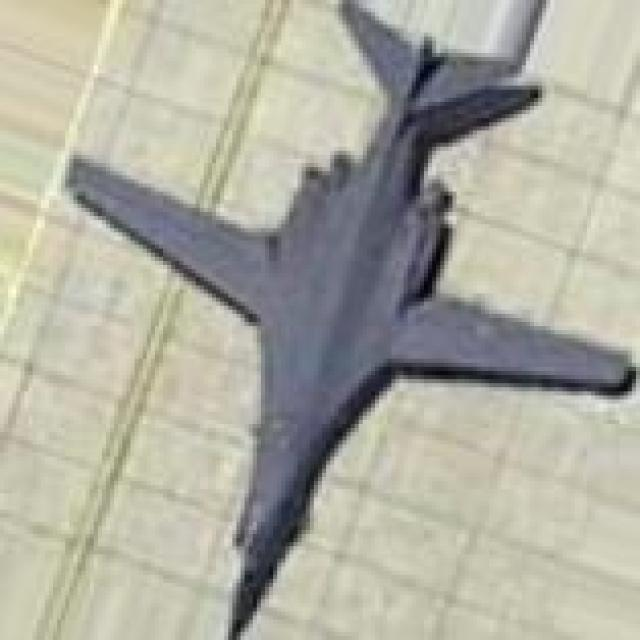B-1_TopDown: (57, 0, 636, 636)
